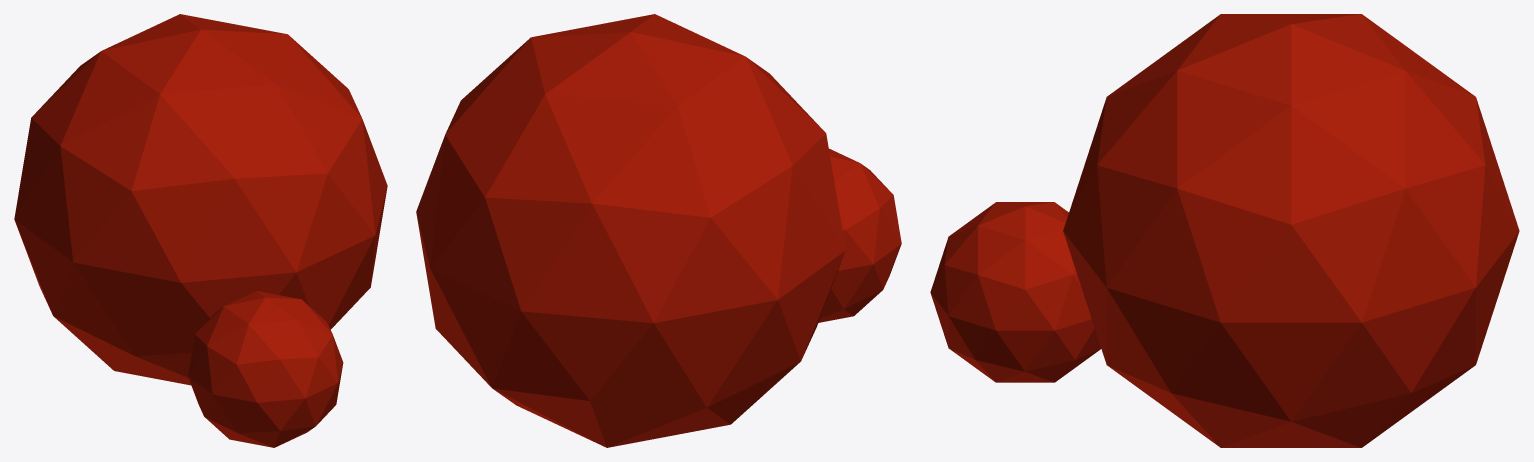
3 views of the same model, side by side, from view 1: azimuth 30°, elevation 25°; view 2: azimuth 150°, elevation 25°; view 3: azimuth 270°, elevation 25° (orthographic). The views are drawn at different scales.
Parts seen in each view (by area): view 1: Icosphere.001, Icosphere; view 2: Icosphere.001, Icosphere; view 3: Icosphere.001, Icosphere.
Part boxes in pixels (x1,y1,x2,y2): Icosphere.001: (14, 14, 387, 385); Icosphere: (188, 291, 343, 447); Icosphere.001: (416, 14, 845, 447); Icosphere: (818, 148, 901, 322); Icosphere.001: (1063, 14, 1519, 447); Icosphere: (930, 202, 1101, 382).
Bounding box in the file's own units: 0.3312 × 0.3483 × 0.4495.
